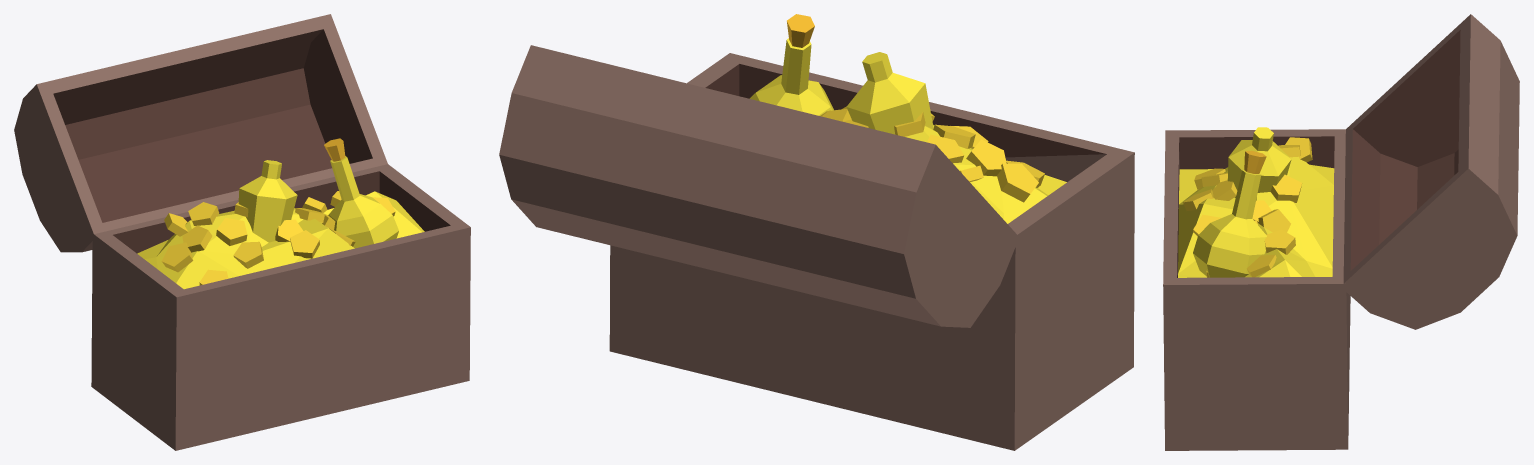
The model's file is Ship_010.fbx.
3 views of the same model, side by side, from view 1: azimuth 30°, elevation 25°; view 2: azimuth 150°, elevation 25°; view 3: azimuth 270°, elevation 25° (orthographic). The views are drawn at different scales.
Parts seen in each view (by area): view 1: Ship_010; view 2: Ship_010; view 3: Ship_010.
Part boxes in pixels (x1,y1,x2,y2): Ship_010: [14, 14, 470, 450]; Ship_010: [499, 14, 1134, 450]; Ship_010: [1163, 14, 1519, 450].
Bounding box in the file's own units: 100 × 97.49 × 85.65.
Materials: 1 (1 with a texture image).
